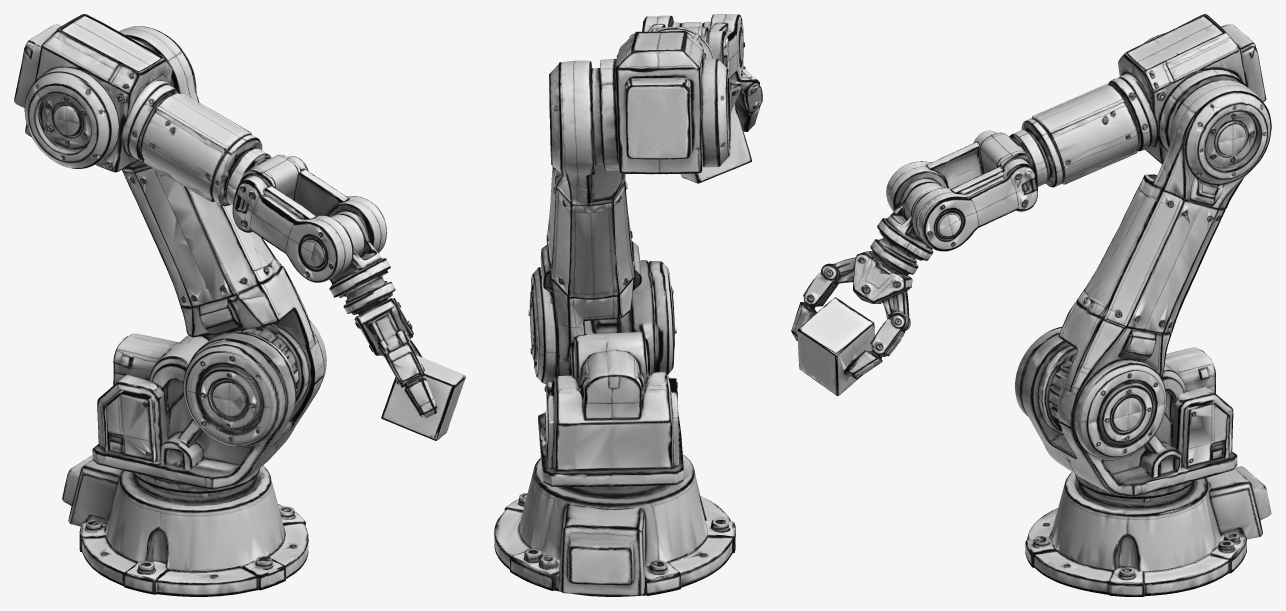
Rendered from jove-arm-v1.glb.
3 renders of one model, left to right at view 1: azimuth 30°, elevation 25°; view 2: azimuth 150°, elevation 25°; view 3: azimuth 270°, elevation 25°, orthographic. The views are drawn at different scales.
Parts seen in each view (by area): view 1: tripo_node_e973b60a-d920-44c4-b607-aa91b2bfd7cb; view 2: tripo_node_e973b60a-d920-44c4-b607-aa91b2bfd7cb; view 3: tripo_node_e973b60a-d920-44c4-b607-aa91b2bfd7cb.
Boxes of the visible parts, x1,y1,x2,y2 form: tripo_node_e973b60a-d920-44c4-b607-aa91b2bfd7cb: (14,14,465,596); tripo_node_e973b60a-d920-44c4-b607-aa91b2bfd7cb: (494,14,762,596); tripo_node_e973b60a-d920-44c4-b607-aa91b2bfd7cb: (791,14,1271,596).
Size of the model in its own units: 0.4914 by 0.9781 by 0.8675.
Materials: 1 (1 with a texture image).
